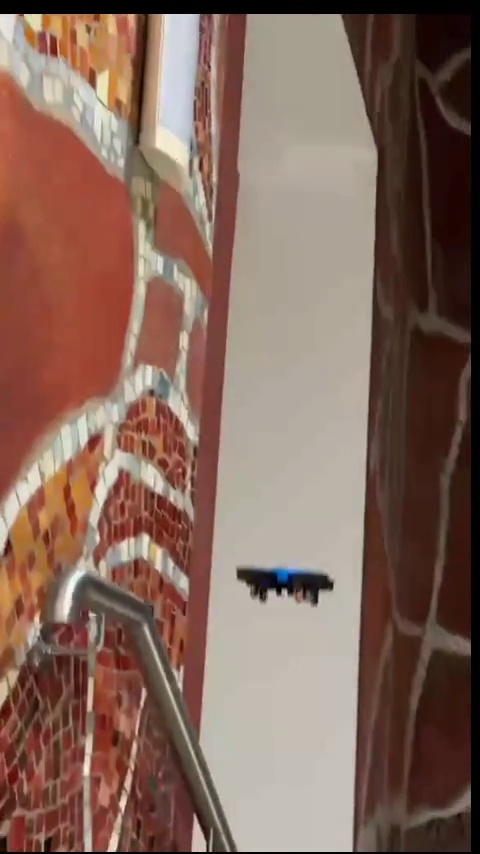drone: (235, 570, 333, 608)
